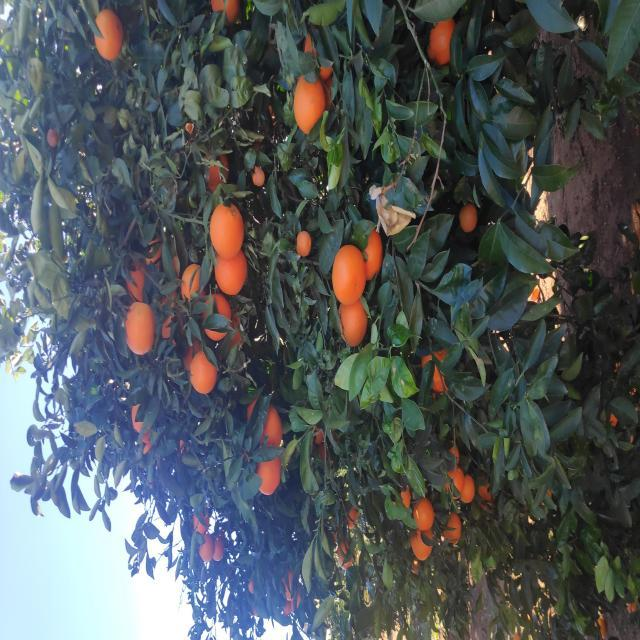Jeruk Sudah Matang: (336, 333, 396, 367), (382, 210, 438, 245), (187, 248, 243, 282), (506, 294, 564, 326), (346, 214, 392, 248), (288, 126, 338, 156), (298, 202, 347, 230), (580, 95, 630, 122), (292, 340, 338, 368), (564, 304, 610, 332), (574, 427, 620, 454), (247, 190, 288, 218), (248, 422, 292, 448), (147, 257, 186, 284), (449, 204, 488, 228), (338, 126, 380, 147), (362, 365, 411, 382), (340, 182, 378, 202), (614, 211, 640, 239), (78, 411, 110, 432), (207, 130, 240, 150), (109, 414, 140, 434), (140, 445, 171, 465), (95, 442, 128, 460), (407, 460, 438, 478), (383, 296, 410, 312), (180, 136, 206, 152), (75, 338, 103, 352), (80, 201, 110, 214), (106, 194, 131, 208), (42, 284, 71, 296), (138, 463, 166, 473), (492, 46, 512, 58), (80, 213, 102, 223), (454, 253, 474, 264), (112, 349, 132, 358), (30, 292, 48, 301), (25, 282, 40, 290)
